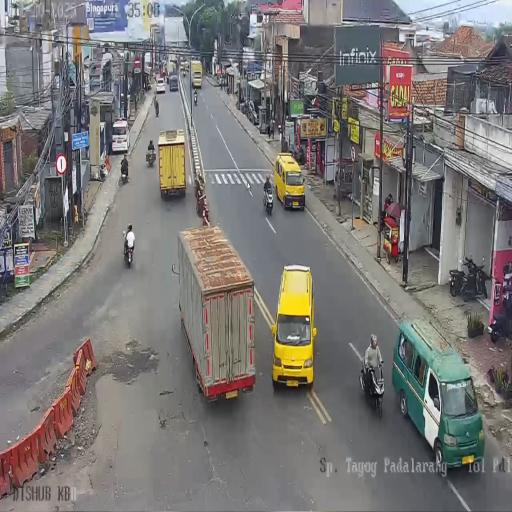car: (390, 318, 482, 468), (271, 265, 315, 389), (274, 153, 305, 212), (112, 118, 130, 155), (244, 99, 258, 125), (168, 74, 178, 92), (156, 78, 165, 94)
motorcycle: (449, 254, 488, 302), (489, 291, 512, 343), (123, 233, 134, 268), (120, 166, 129, 186), (147, 148, 154, 166), (194, 92, 198, 105), (166, 71, 169, 84)
truck: (178, 224, 256, 400), (158, 128, 187, 201), (191, 60, 202, 88), (168, 54, 177, 74), (180, 61, 187, 74)
